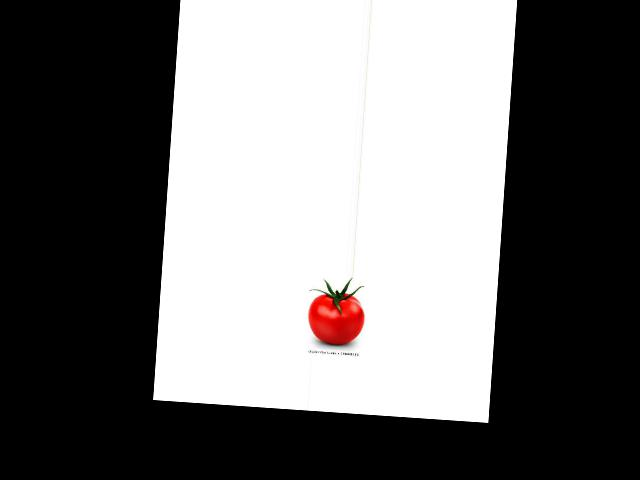tomato: (307, 291, 366, 345)
